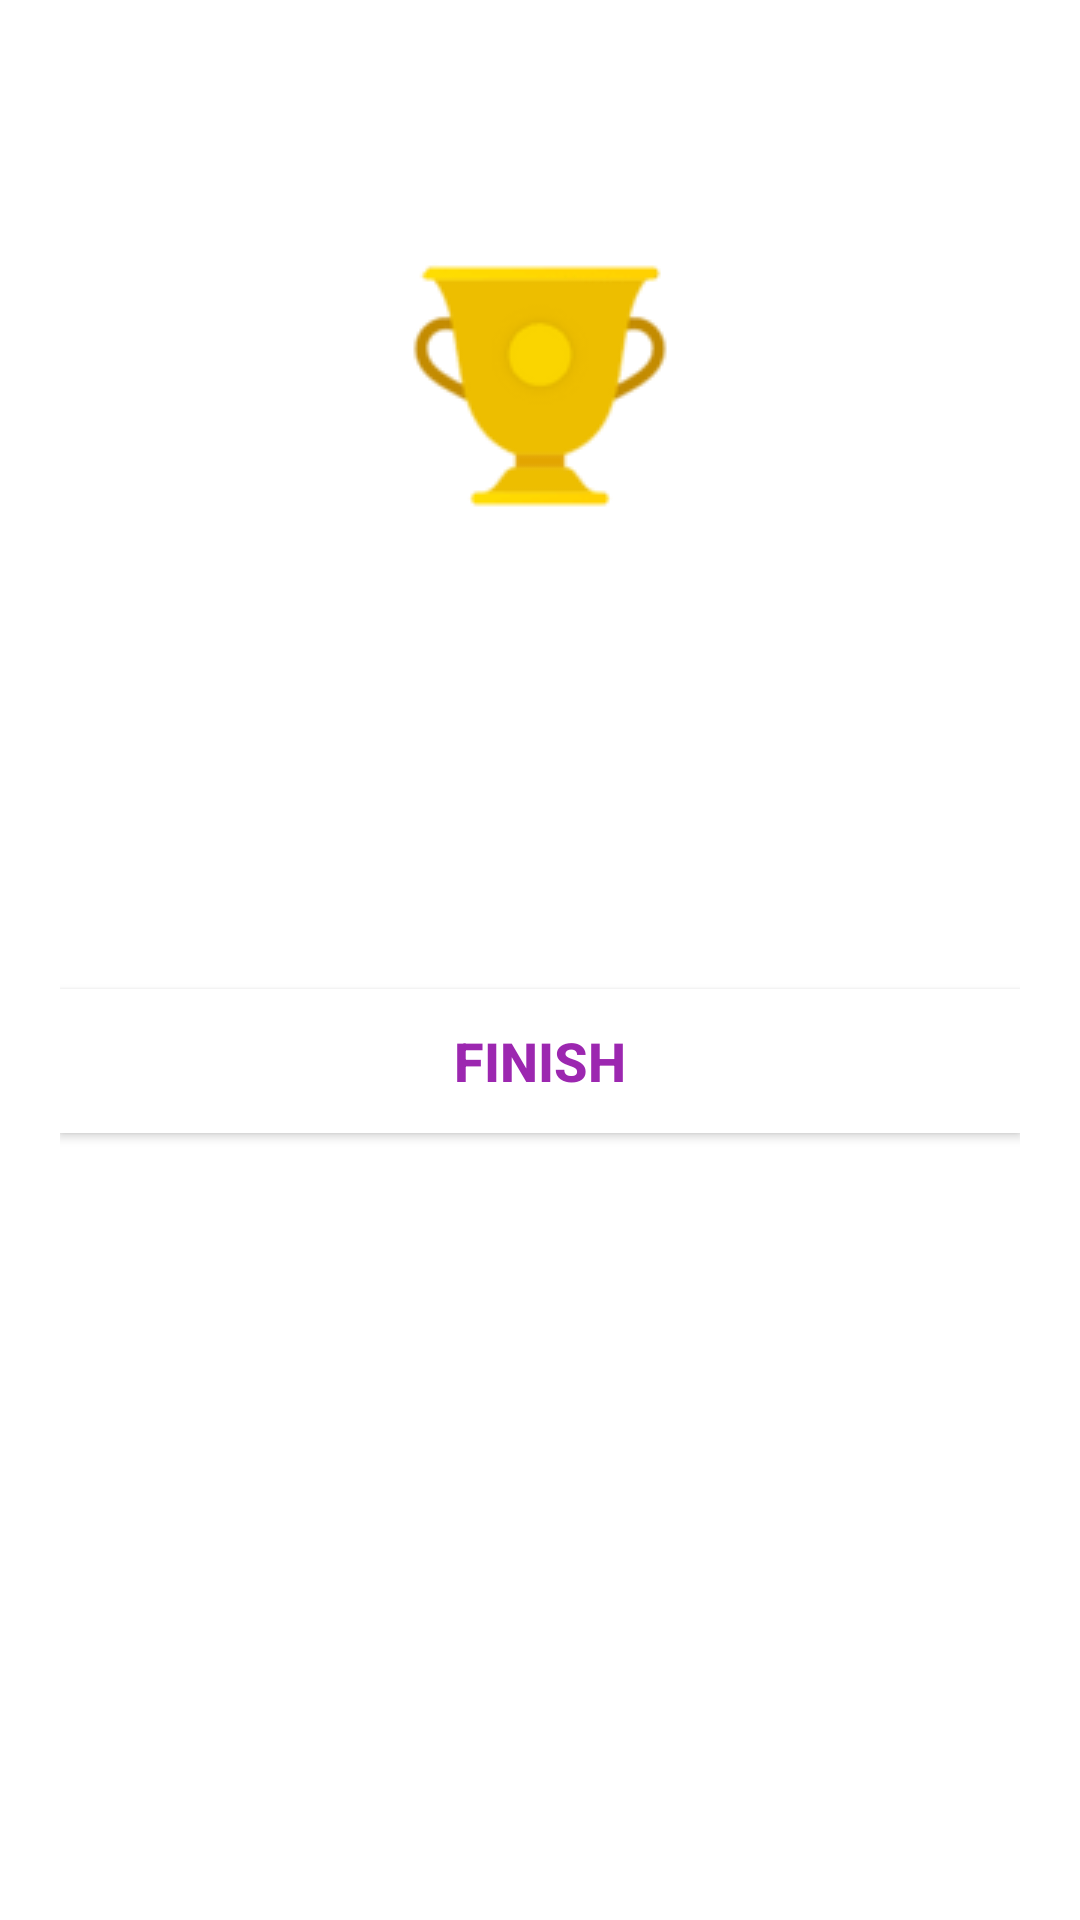

Icon bounding boxes for this 1080px x 1920px phone screenshot, format (x1, y1, x2, y2):
trophy: (413, 265, 667, 507)
